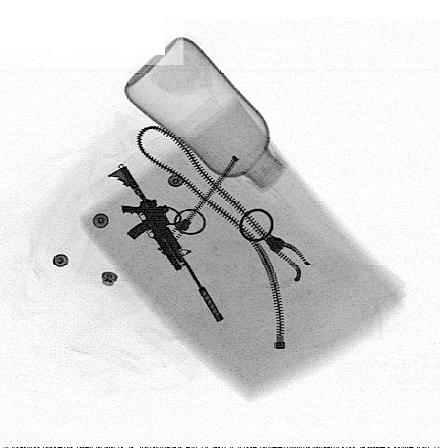Gun: (106, 166, 225, 325)
